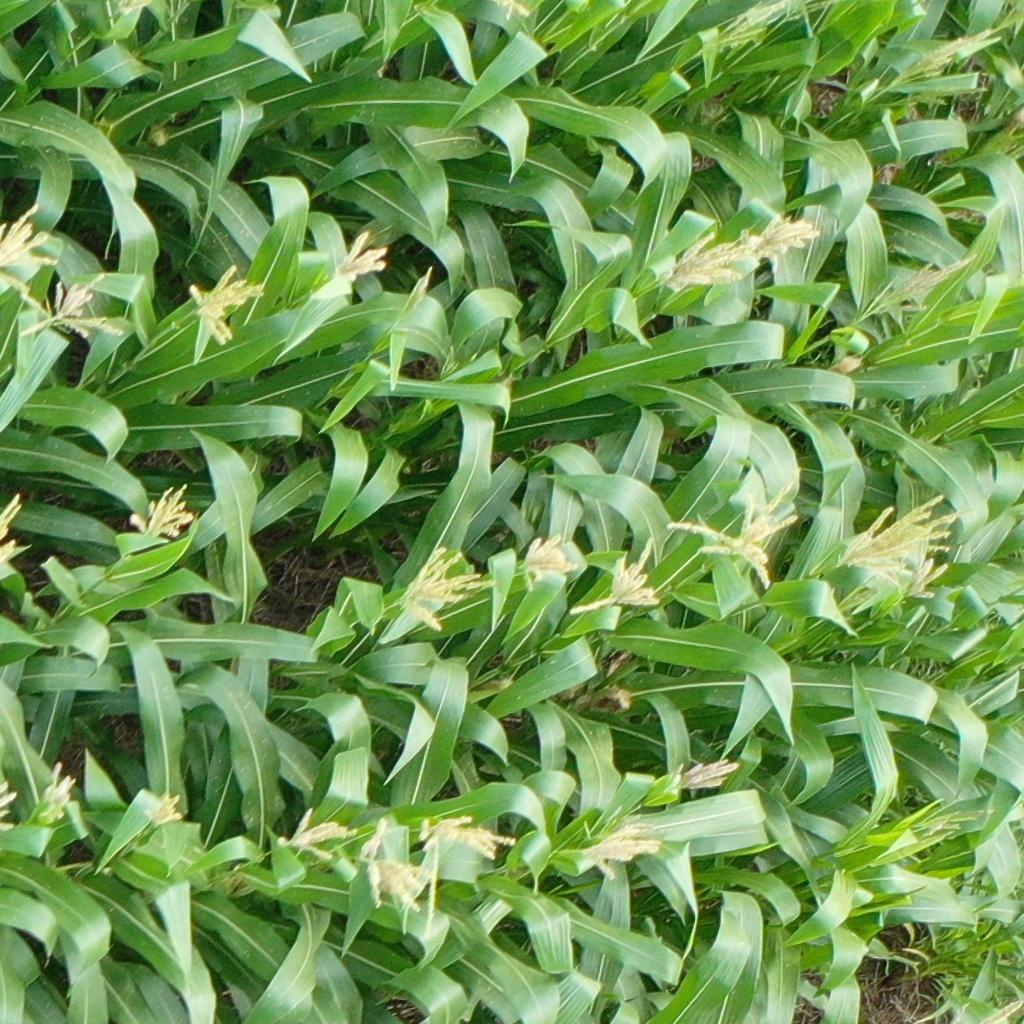Tassel: (664, 469, 803, 593), (418, 813, 524, 938), (828, 490, 962, 588), (390, 545, 502, 636), (15, 271, 127, 347), (570, 537, 669, 620), (867, 247, 979, 318), (358, 815, 430, 923), (575, 800, 665, 882), (888, 23, 1002, 86), (187, 263, 266, 351), (658, 229, 754, 295), (1, 202, 59, 291), (126, 481, 197, 545), (282, 807, 359, 859), (906, 795, 995, 839), (755, 210, 822, 268), (659, 754, 742, 798), (516, 535, 576, 595), (707, 1, 785, 46), (323, 230, 385, 285), (901, 553, 949, 605), (36, 759, 76, 820), (397, 265, 432, 326), (143, 789, 186, 834), (1, 494, 26, 565), (785, 1, 835, 26), (1, 780, 20, 836), (999, 1, 1024, 33), (112, 1, 156, 18), (493, 1, 531, 20)
